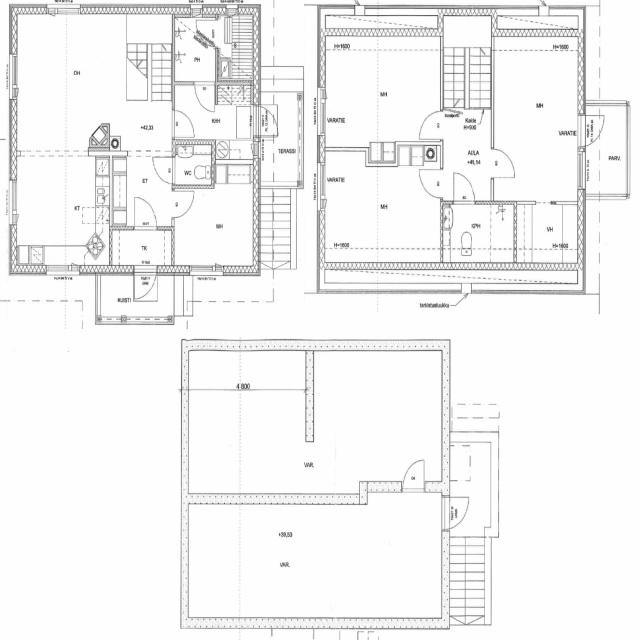door: (578, 115, 610, 147), (442, 498, 473, 530), (134, 265, 157, 306), (253, 106, 283, 136), (403, 453, 424, 492), (134, 197, 156, 230), (420, 112, 444, 140), (420, 170, 444, 198), (454, 172, 475, 204), (492, 150, 516, 177), (196, 21, 220, 47), (152, 157, 175, 184), (172, 192, 194, 218), (172, 111, 194, 137), (195, 82, 214, 112)
